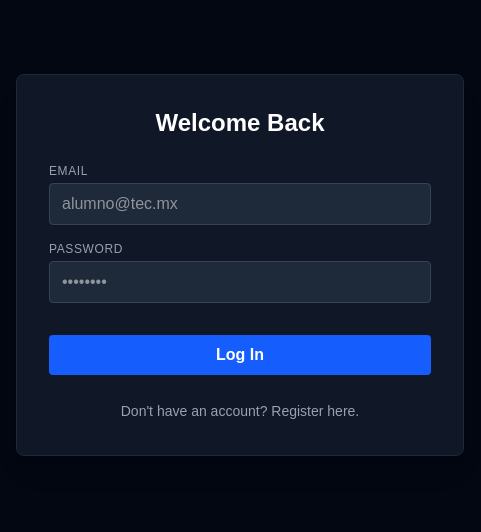
Test: AuthScreen › registers a new user under an existing organization
The image size is (481, 532).
Click the button "Don't have an account? Register here.".
click(240, 411)  # box [121,401,359,421]
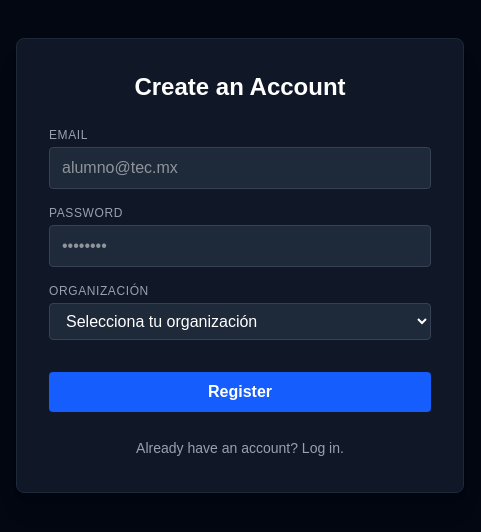
Type "new@tec.mx" into the field with placeholder "alumno@tec.mx".
click(240, 168); type("new@tec.mx")  # box [49,146,431,188]
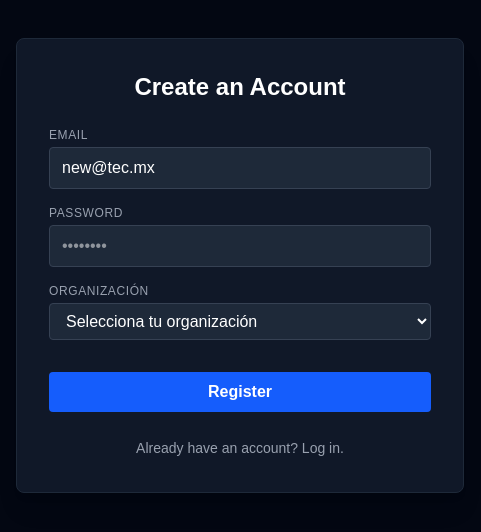
Type "password1" into the password field with placeholder "••••••••".
click(240, 246); type("password1")  # box [49,224,431,266]
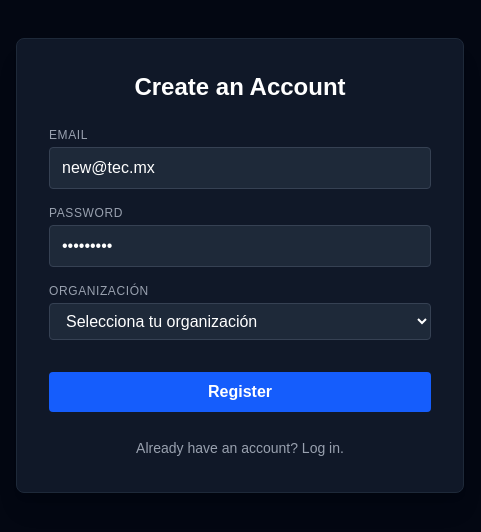
Select "RoBorregos" in the dropdown at (240,321), box [49,302,431,340]
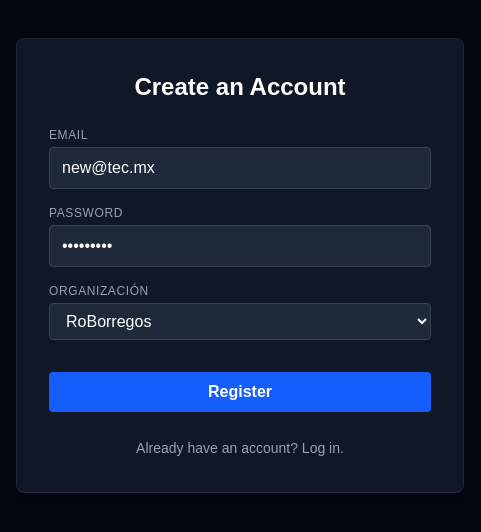
Click the button "Register".
click(240, 392)  # box [49,372,431,412]
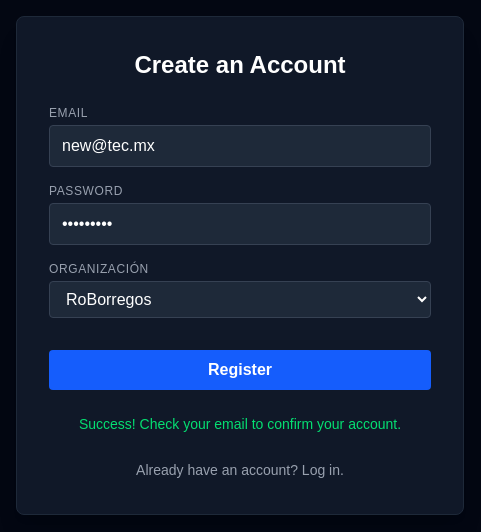
expect the text "Success! Check your email to confirm your account." is shown: met, box [79,416,401,432]
